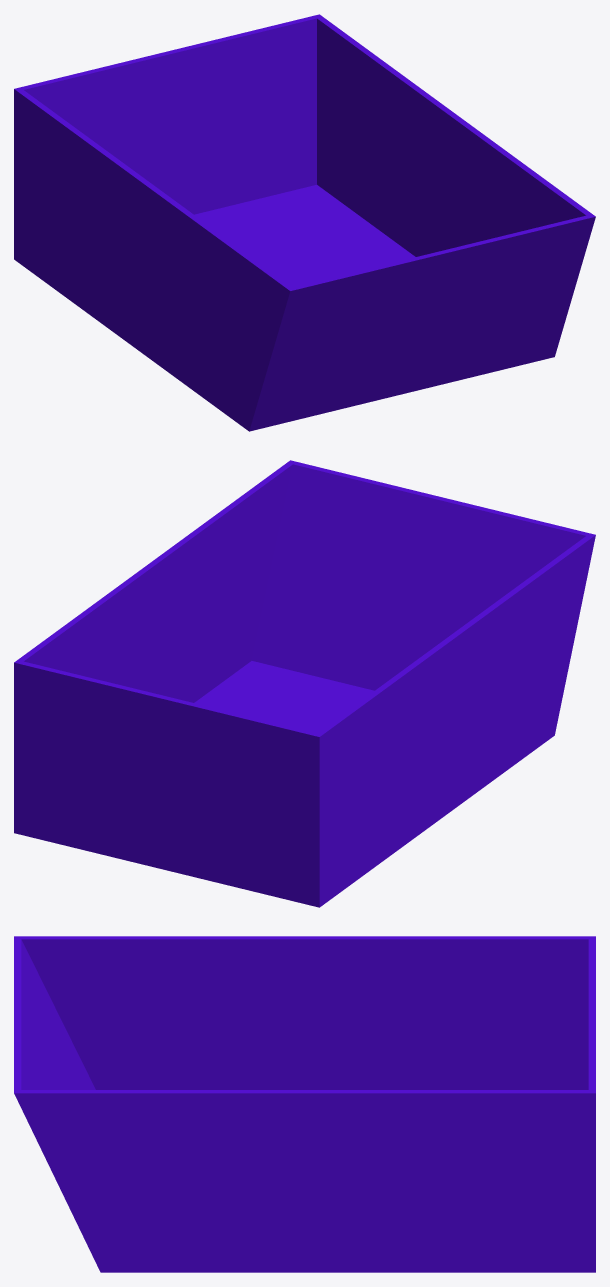
3 views of the same model, one above another, from view 1: azimuth 30°, elevation 25°; view 2: azimuth 150°, elevation 25°; view 3: azimuth 270°, elevation 25° (orthographic). The views are drawn at different scales.
Visible parts, largest first — view 1: box; view 2: box; view 3: box.
Boxes of the visible parts, <box> form: box: <box>14,14,595,431</box>; box: <box>14,460,595,907</box>; box: <box>14,936,595,1272</box>.
Bounding box in the file's own units: 0.15 × 0.235 × 0.08.
